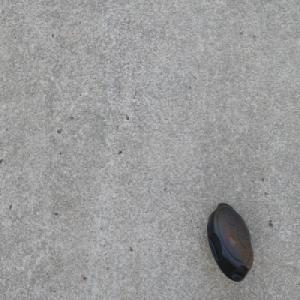FuelCap: (206, 200, 254, 283)
